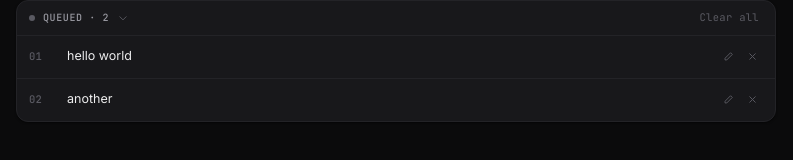
Scenario: QueuedMessages › row expand/collapse › clicking a row expands it (aria-expanded becomes true)
What coordinates should you click on to do the following:
click the button "01 hello world"
I would click on:
 (99, 56)
Its box is [29,46,763,68].
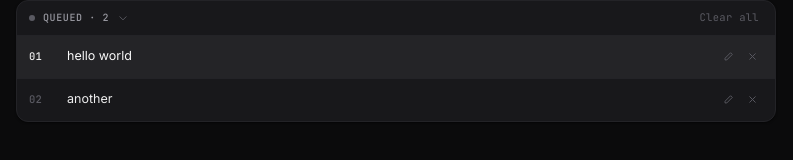
expect the button "01 hello world" is expanded: met, box [17,36,775,78]
